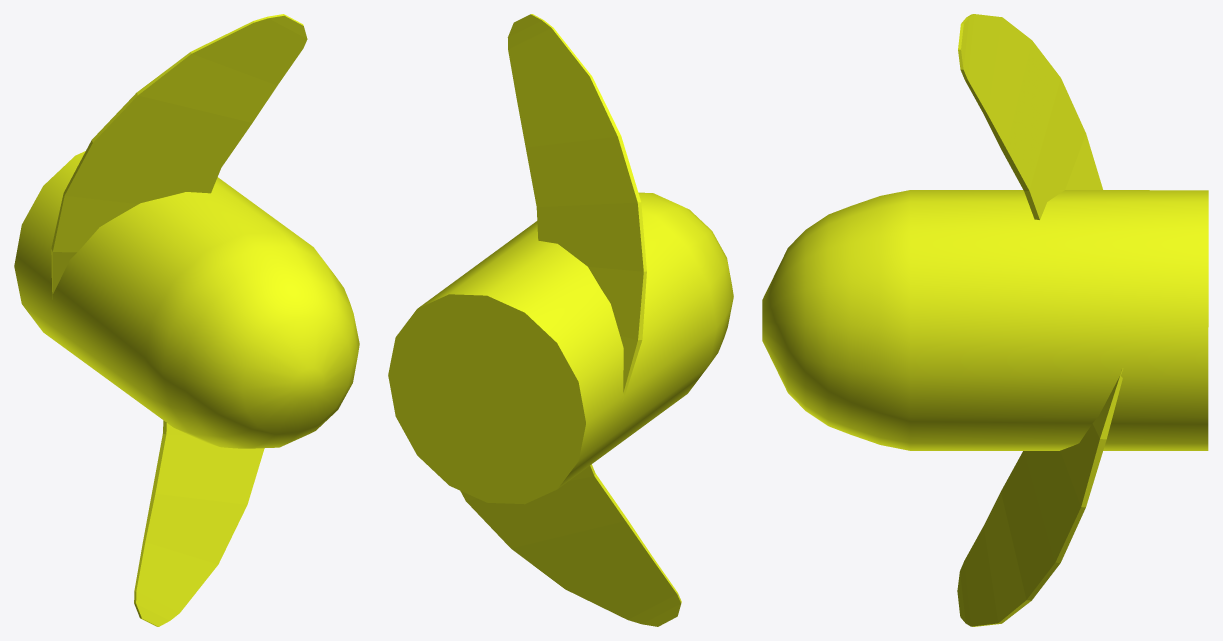
The model's file is m200_weedless_prop_ccw_visual.glb.
3 renders of one model, left to right at view 1: azimuth 30°, elevation 25°; view 2: azimuth 150°, elevation 25°; view 3: azimuth 270°, elevation 25°, orthographic. The views are drawn at different scales.
Parts seen in each view (by area): view 1: m200_weedless_prop_ccw.visual; view 2: m200_weedless_prop_ccw.visual; view 3: m200_weedless_prop_ccw.visual.
Boxes of the visible parts, x1=… form: m200_weedless_prop_ccw.visual: x1=14, y1=14, x2=359, y2=626; m200_weedless_prop_ccw.visual: x1=388, y1=14, x2=733, y2=626; m200_weedless_prop_ccw.visual: x1=762, y1=14, x2=1208, y2=626.
Size of the model in its own units: 0.043 by 0.1107 by 0.0674.
1 material, 1 textured.
